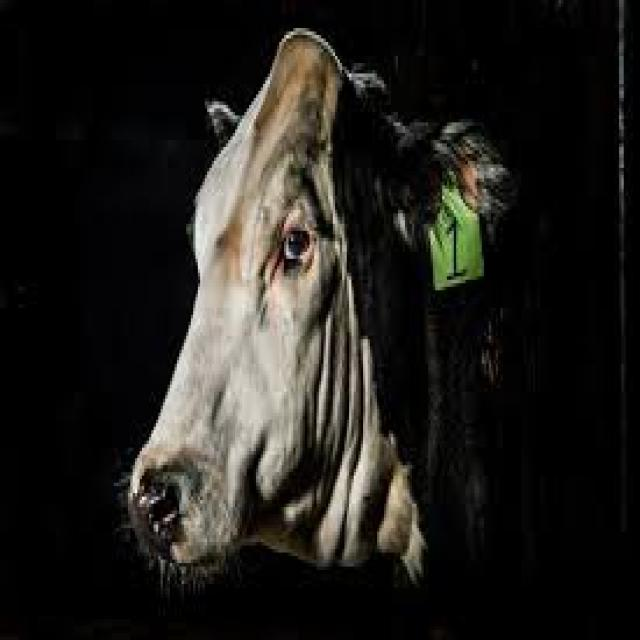cow: (132, 62, 438, 602)
